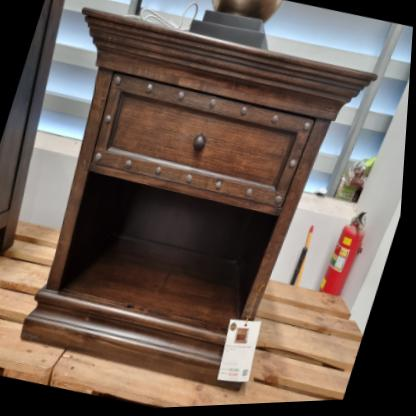Sideboard: (0, 0, 391, 416)
